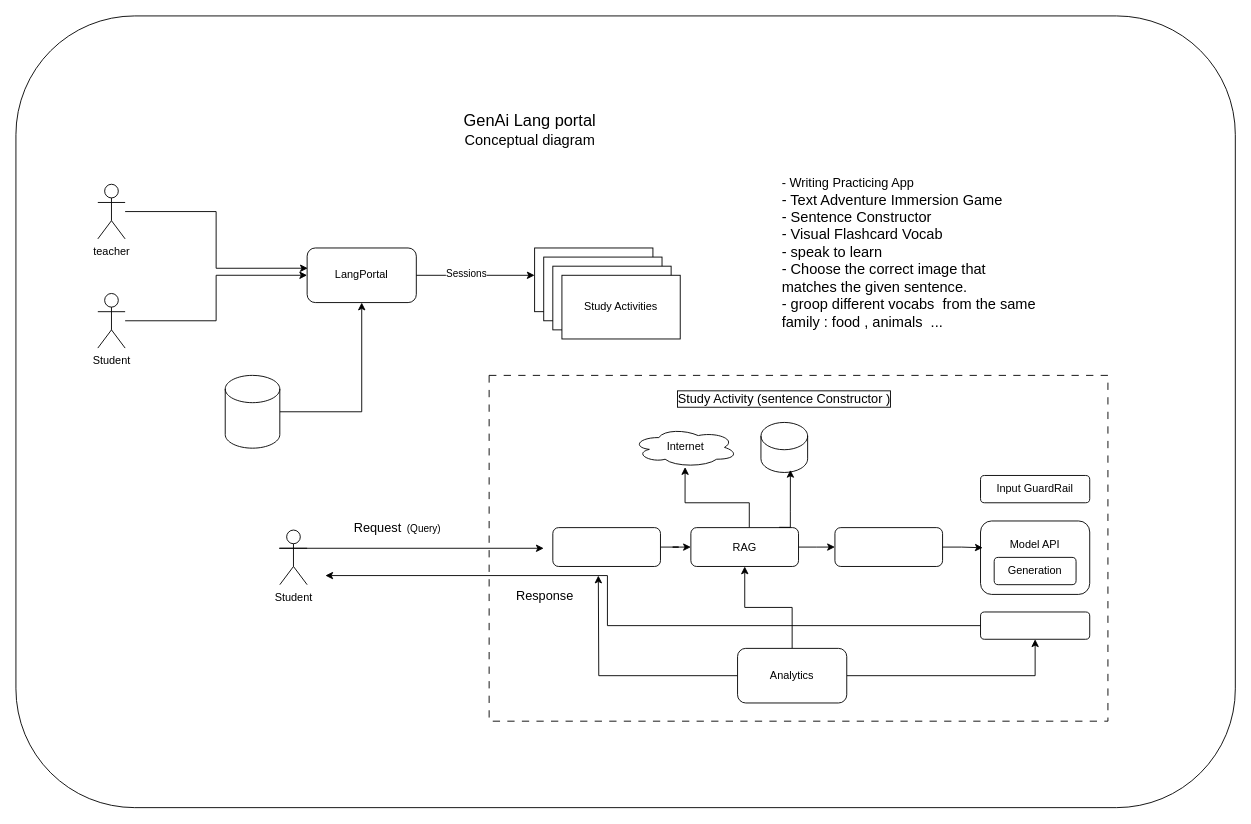
This 1251x824 diagram has some shape labels left out. The shapes that lost their labels are listed below. From the top down, each one's centre as x and y in pixels, then its label:
At [252,411]: "words database".
At [784,447]: "DB".
At [606,546]: "Queries Cache".
At [888,546]: "Prompt Cache".
At [1035,625]: "Output GuardRail".
